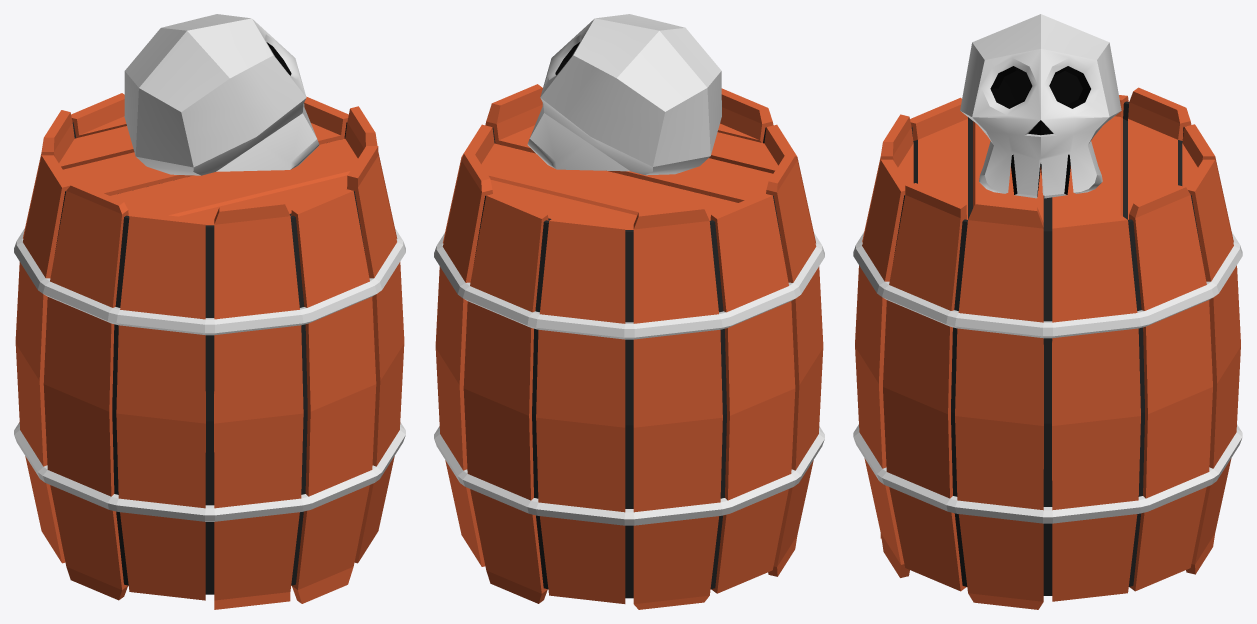
File: BarrelSkull.fbx
3 views of the same model, side by side, from view 1: azimuth 30°, elevation 25°; view 2: azimuth 150°, elevation 25°; view 3: azimuth 270°, elevation 25° (orthographic).
Parts seen in each view (by area): view 1: WarningSign.001; view 2: WarningSign.001; view 3: WarningSign.001.
Part boxes in pixels (left/top/right/bottom): WarningSign.001: left=14, top=14, right=405, bottom=609; WarningSign.001: left=434, top=14, right=824, bottom=609; WarningSign.001: left=853, top=14, right=1242, bottom=609.
Bounding box in the file's own units: 56.71 × 83.7 × 56.72.
